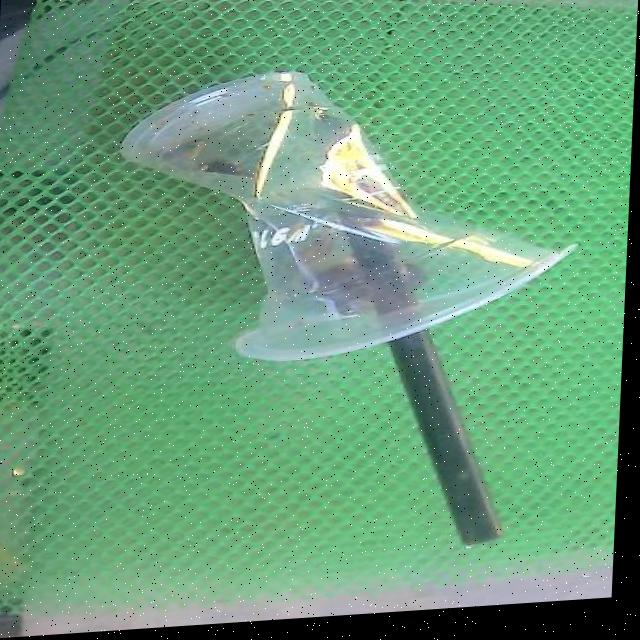cup: (122, 77, 577, 365)
